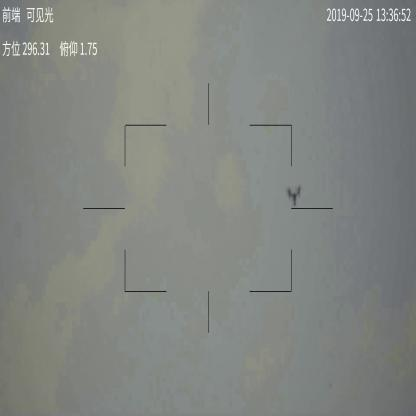uav: (285, 183, 303, 208)
